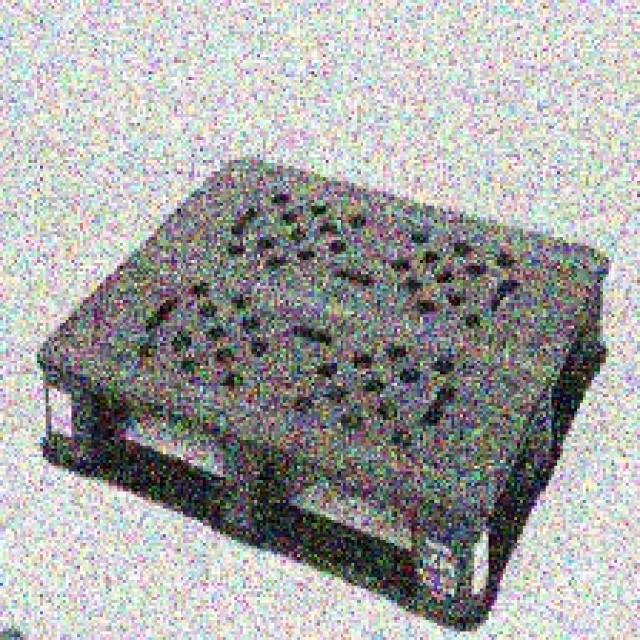igps: (30, 150, 616, 636)
